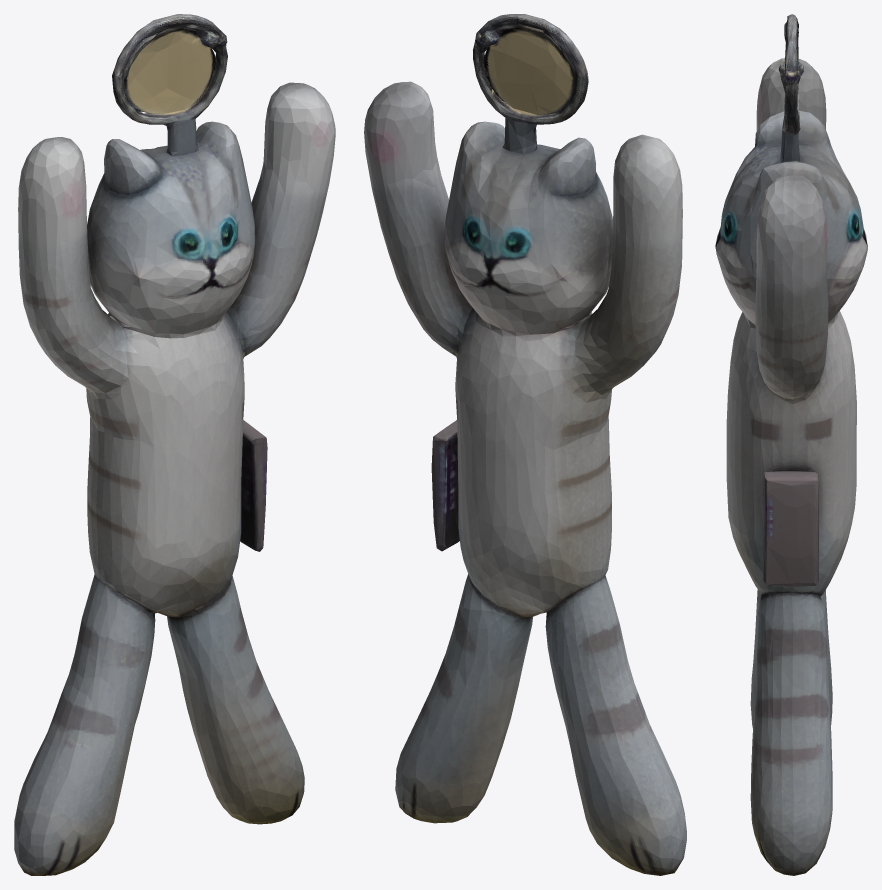
File: 02-銀虎斑貓-島灰.glb
The picture shows the model from 3 angles, left to right: view 1: azimuth 30°, elevation 25°; view 2: azimuth 150°, elevation 25°; view 3: azimuth 270°, elevation 25°; orthographic projection. The views are drawn at different scales.
Visible parts, largest first — view 1: world; view 2: world; view 3: world.
Boxes of the visible parts, <box> form: world: <box>14,14,335,875</box>; world: <box>364,14,686,875</box>; world: <box>715,14,867,875</box>.
Size of the model in its own units: 0.3953 by 1 by 0.1722.
1 material, 1 textured.
